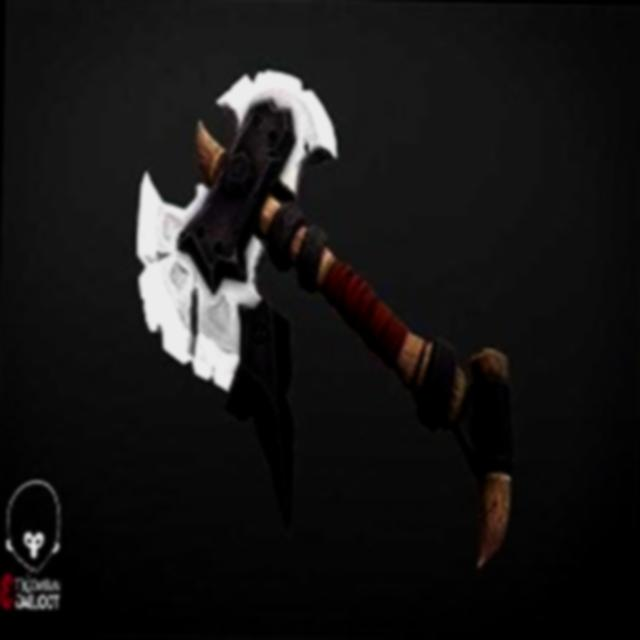ax: (112, 49, 546, 588)
